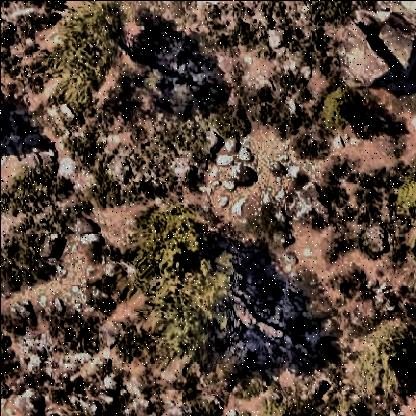tree-top: (47, 7, 152, 98), (122, 203, 222, 293), (162, 296, 241, 368), (361, 326, 416, 407), (323, 89, 372, 139)
